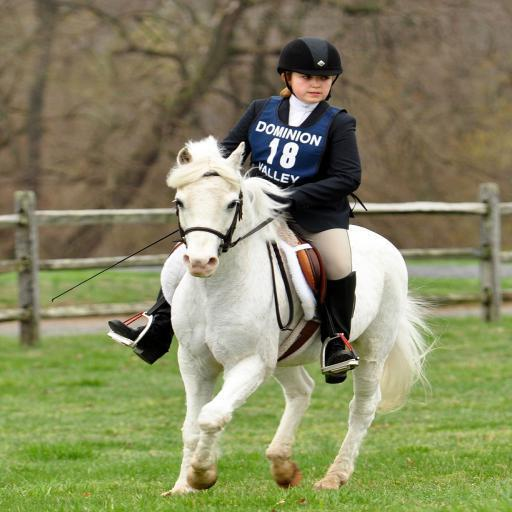horse: (156, 133, 440, 498)
